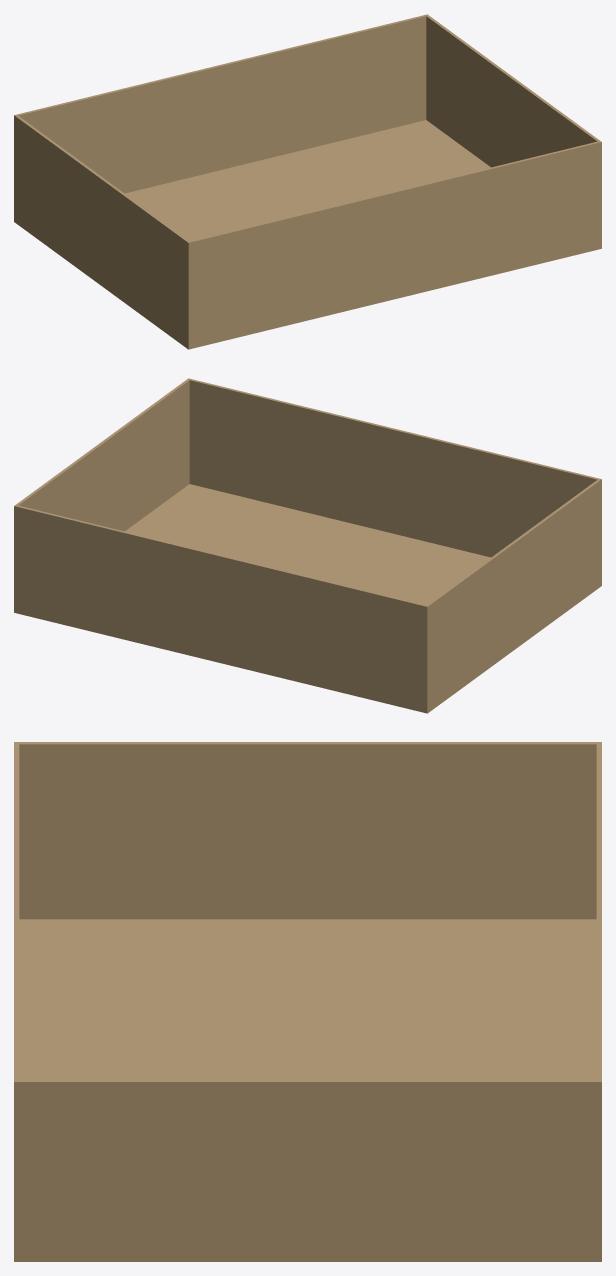
File: paper.glb
3 renders of one model, top to bottom at view 1: azimuth 30°, elevation 25°; view 2: azimuth 150°, elevation 25°; view 3: azimuth 270°, elevation 25°, orthographic. The views are drawn at different scales.
Parts seen in each view (by area): view 1: CoreLongWall_1, CoreLongWall_-1, RigidCoreBottom, CoreEndWall_-1, CoreEndWall_1; view 2: CoreLongWall_-1, CoreLongWall_1, RigidCoreBottom, CoreEndWall_-1, CoreEndWall_1; view 3: CoreEndWall_-1, CoreEndWall_1, RigidCoreBottom, CoreLongWall_-1, CoreLongWall_1.
Boxes of the visible parts, box(x1,y1,x2,y2) form: CoreLongWall_1: box(187, 141, 601, 346); CoreLongWall_-1: box(14, 14, 428, 219); RigidCoreBottom: box(14, 120, 601, 349); CoreEndWall_-1: box(15, 115, 188, 345); CoreEndWall_1: box(426, 15, 599, 167); CoreLongWall_-1: box(14, 505, 428, 710); CoreLongWall_1: box(187, 378, 601, 583); RigidCoreBottom: box(14, 484, 601, 713); CoreEndWall_-1: box(427, 479, 600, 709); CoreEndWall_1: box(16, 379, 189, 531); CoreEndWall_-1: box(19, 742, 596, 919); CoreEndWall_1: box(19, 1079, 596, 1256); RigidCoreBottom: box(14, 919, 601, 1261); CoreLongWall_-1: box(596, 742, 601, 1256); CoreLongWall_1: box(14, 742, 19, 1256).
Bounding box in the file's own units: 0.223 × 0.055 × 0.163.
